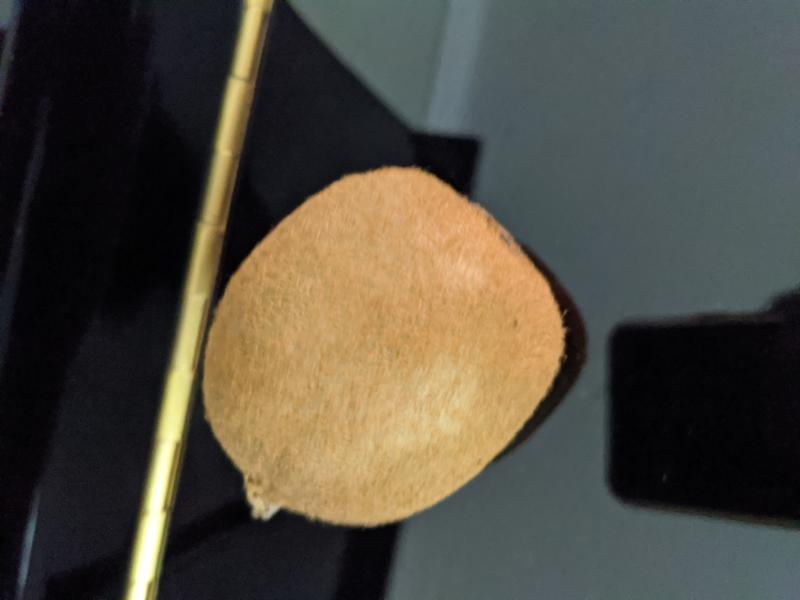kiwi: (200, 165, 567, 528)
